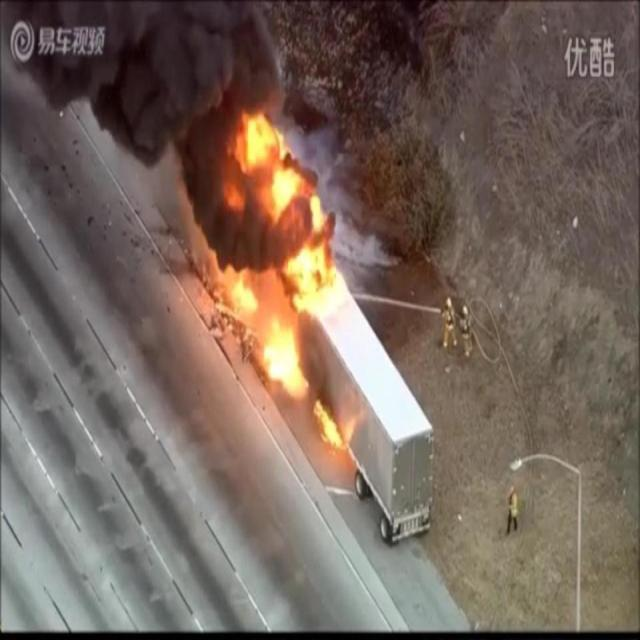Fire: (228, 111, 351, 448)
Smoke: (1, 2, 394, 272)
